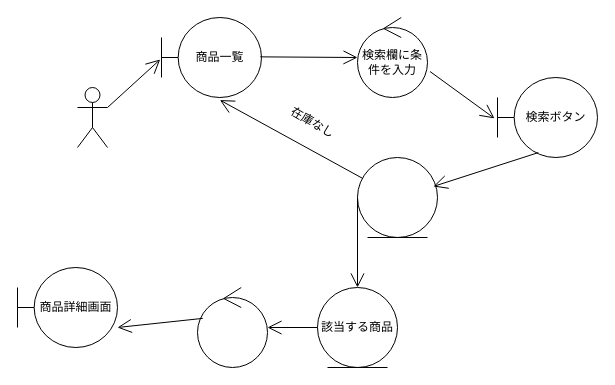
Image size: 615x385. Some labels were removed from this diagram. The centre of each missing label's shape, as x and y in pixels:
"商品データ" belongs at (397,197).
"詳細を選択" belongs at (232,327).
"顧客" belongs at (92,117).
